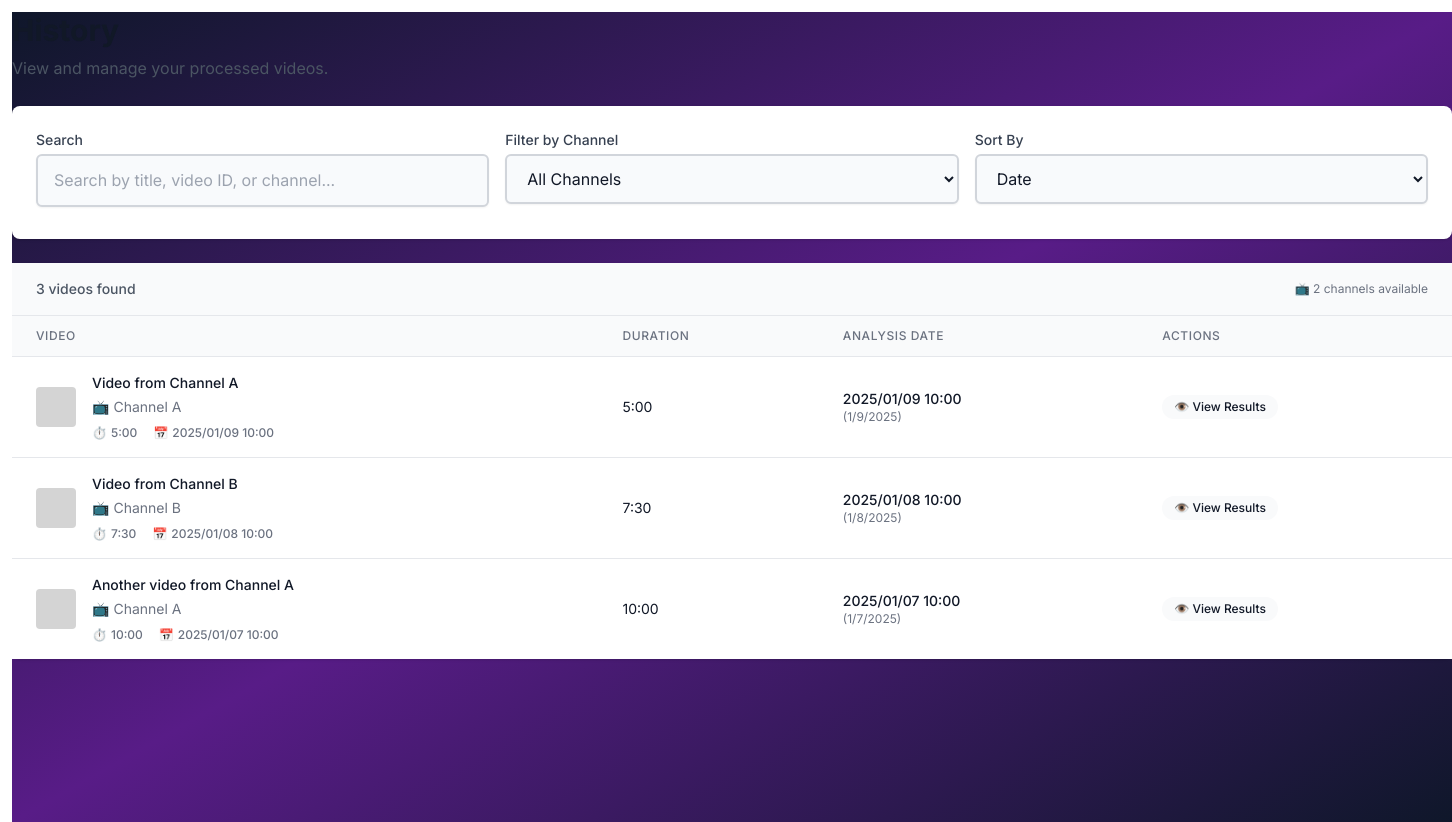
Scenario: HistoryPage Channel Filter Feature › can clear all filters at once
The width and height of the screenshot is (1452, 822).
Apply both filters
In the field labelled "Search": (263, 180) [36,154,489,207], type "video"
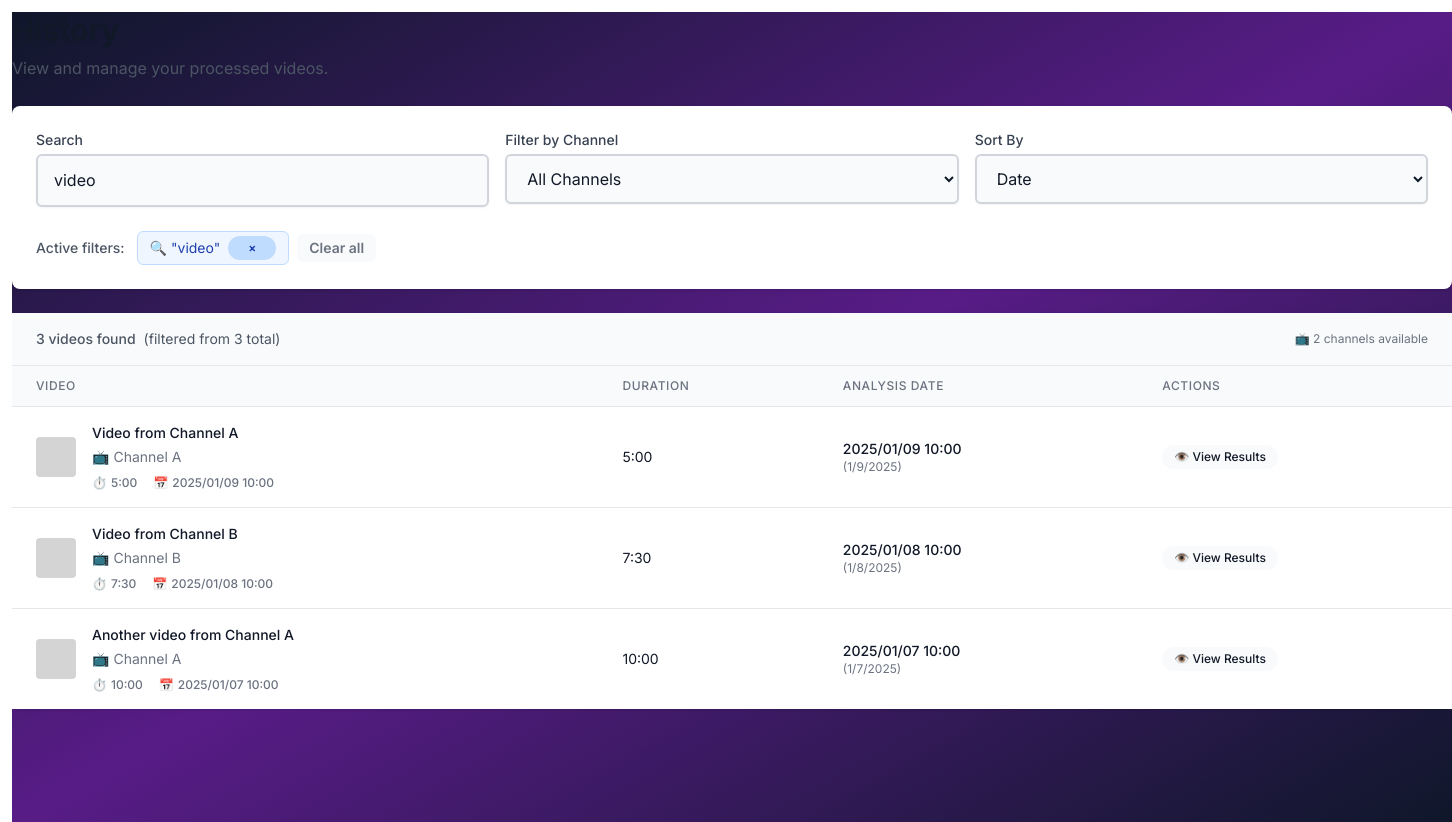
Select "📺 Channel A" in the dropdown labelled "Filter by Channel": (732, 179) [505,154,959,204]
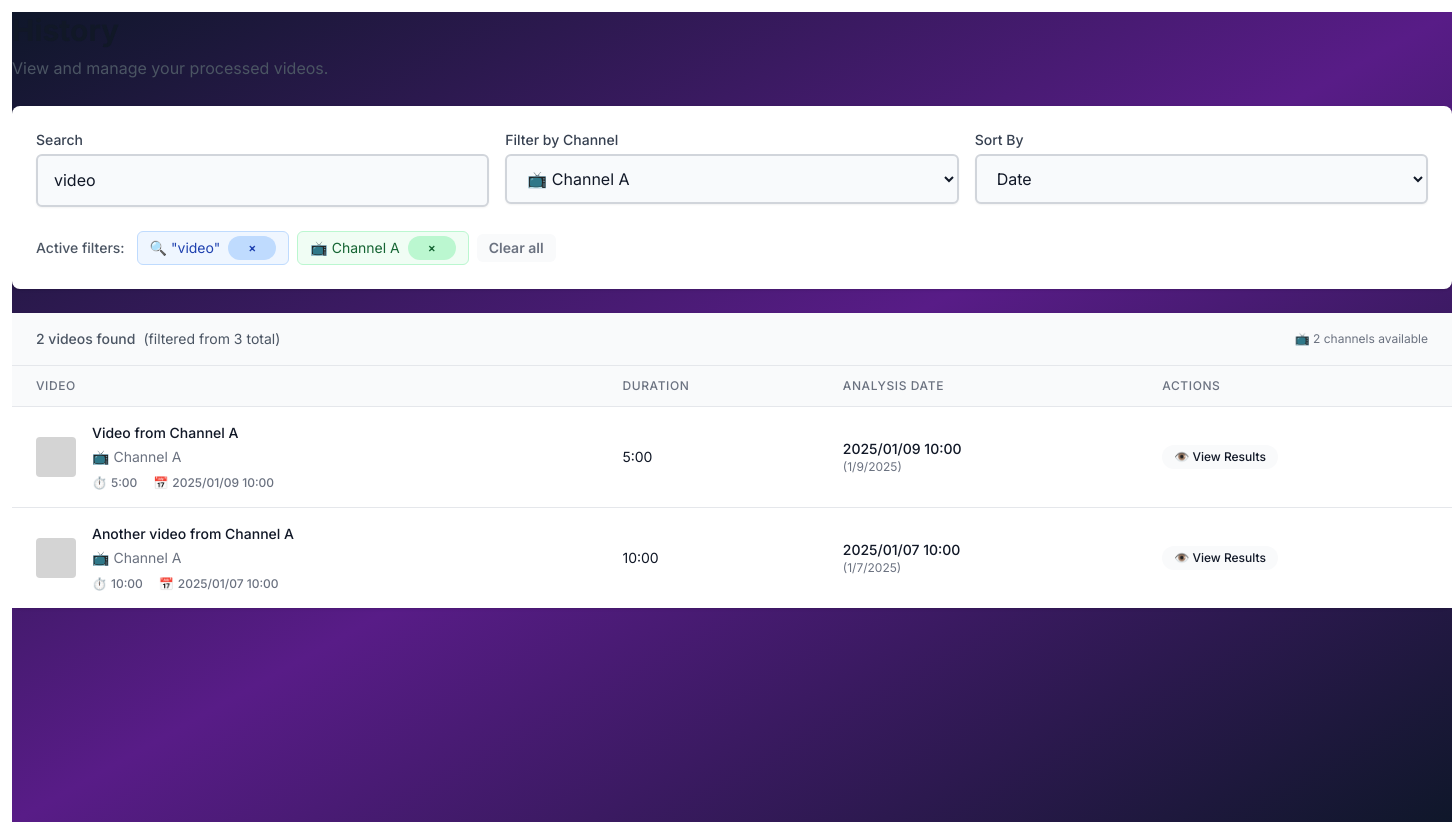
Check: the text "Active filters:" is shown, box [36,238,125,258]
Clear all filters
Click the button "Clear all": click(516, 248) [477,234,556,262]
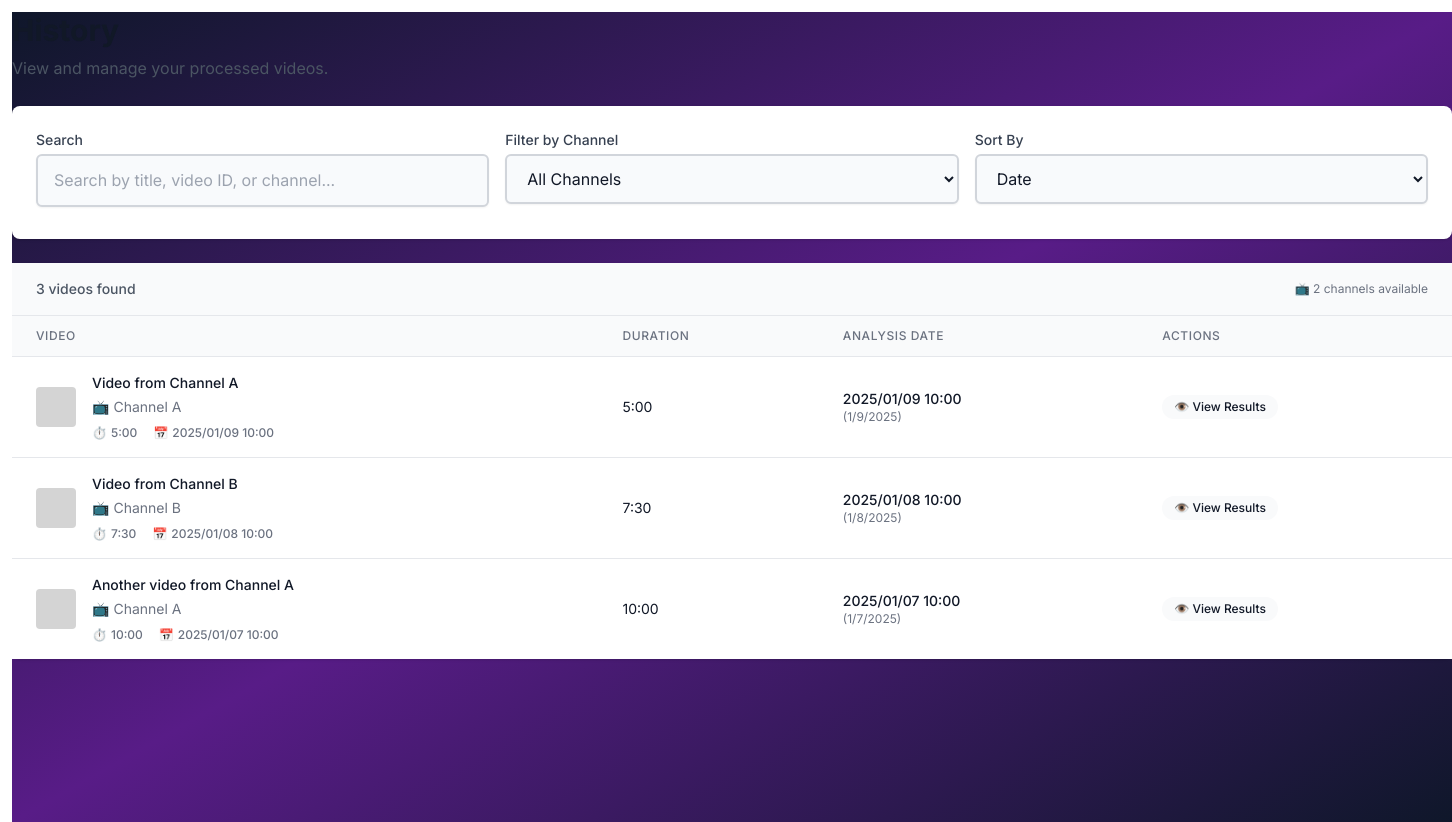
Check: the text "3 videos found" is shown, box [36,279,136,299]
Check: the text "Active filters:" is gone
